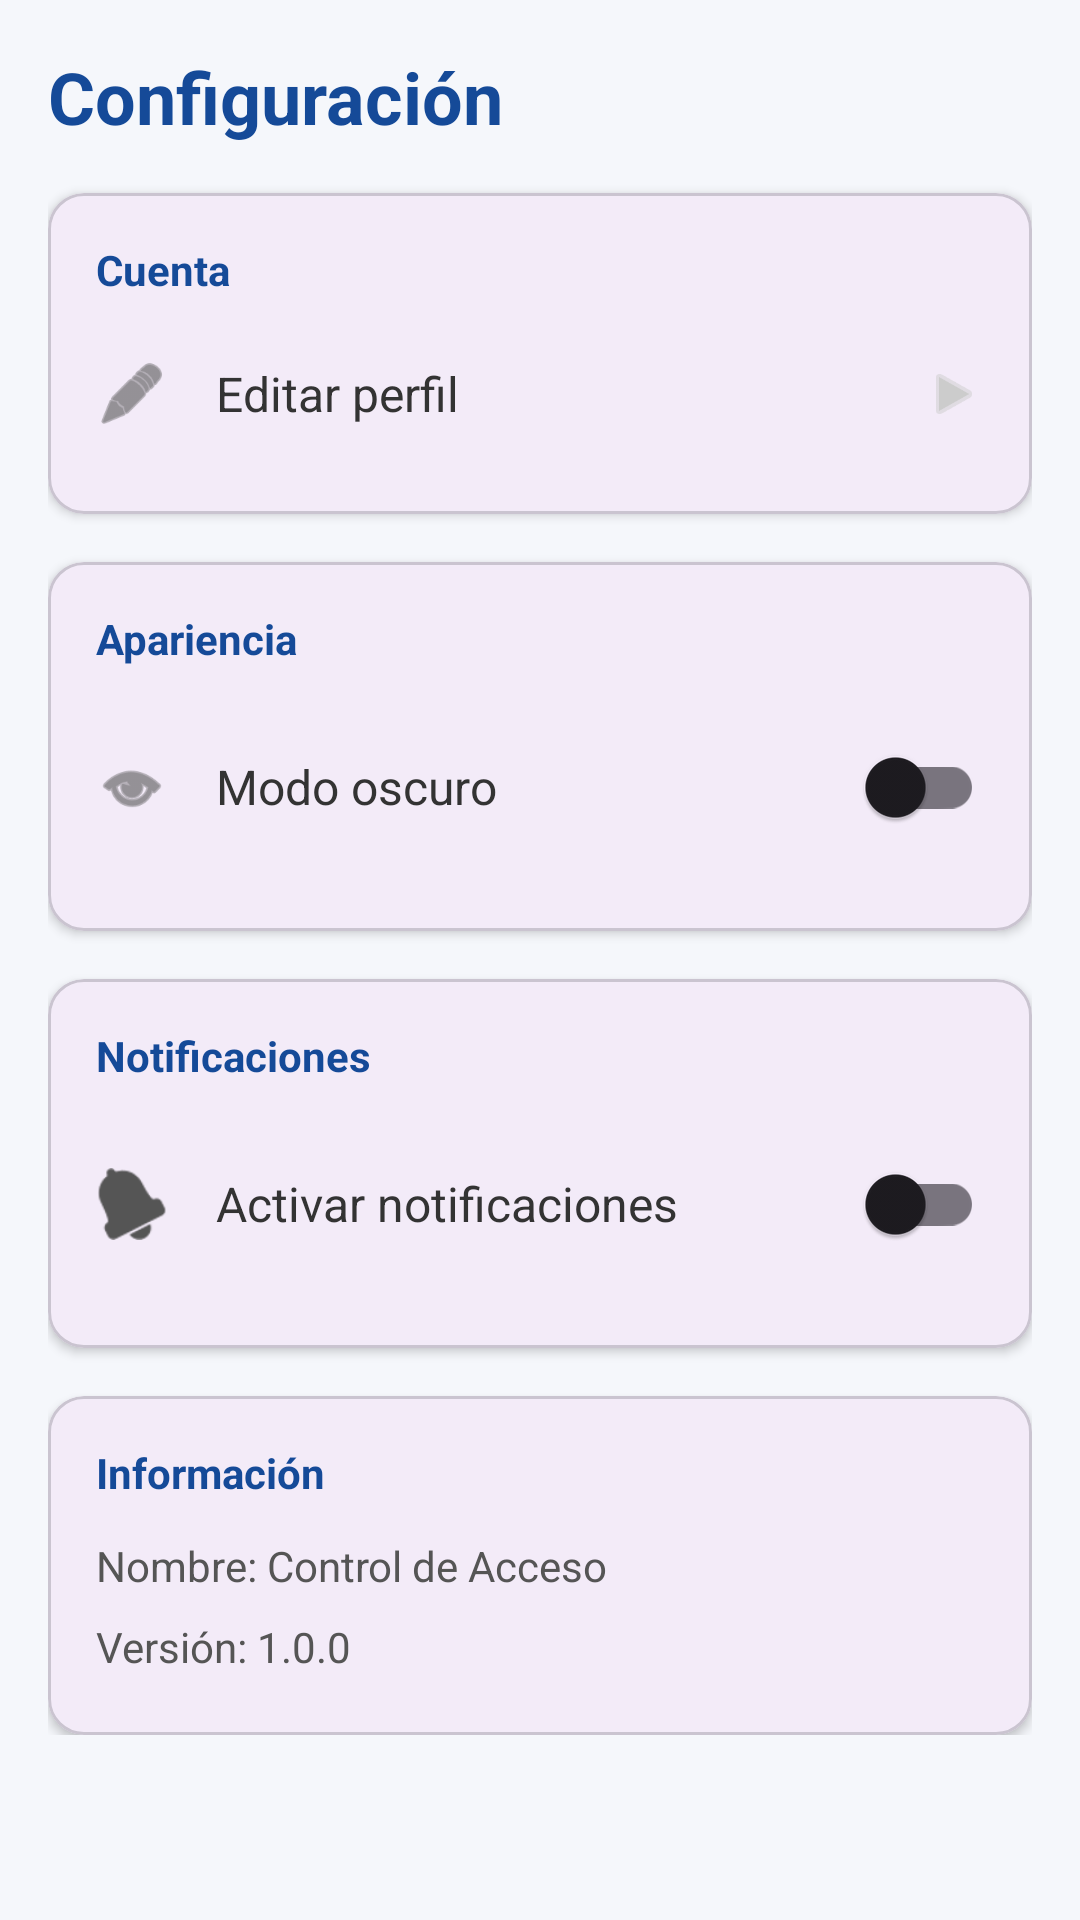

Point at icon controls on the screen. Image size 1080 × 1920, points as point (x, y).
play: point (954, 394)
popup reminder: point (132, 1204)
view: point (132, 788)
